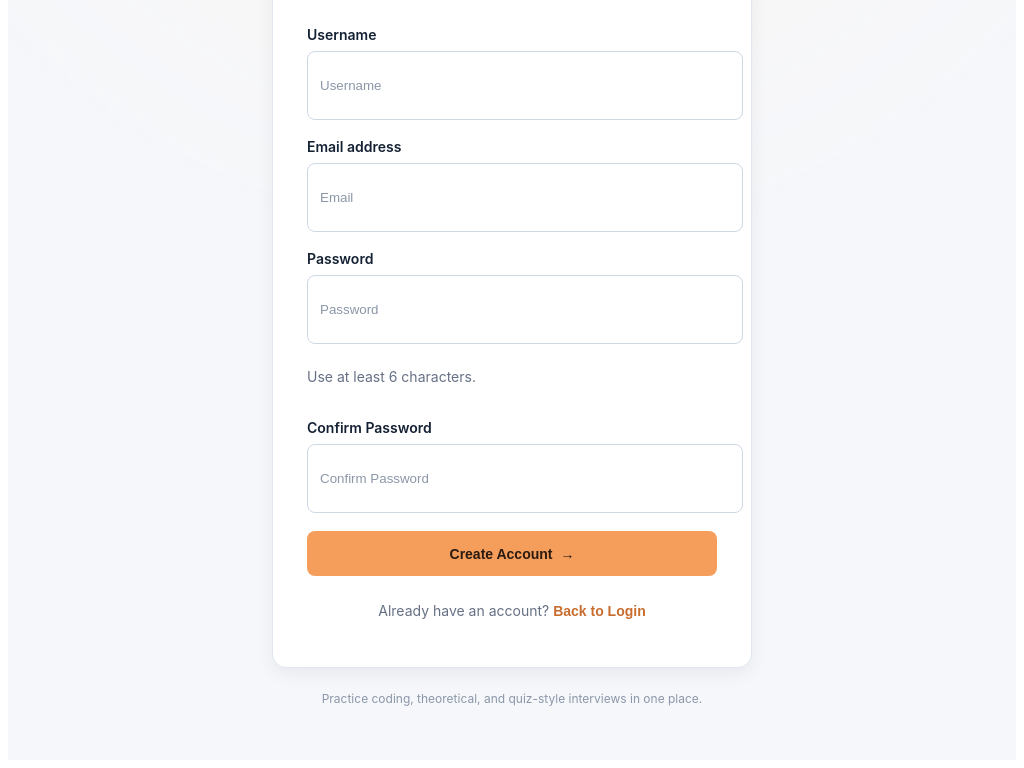
requires all four registration fields
(page scrolled)
Step 1. Click the button "Create Account →" → (512, 554), box [307,531,717,576]
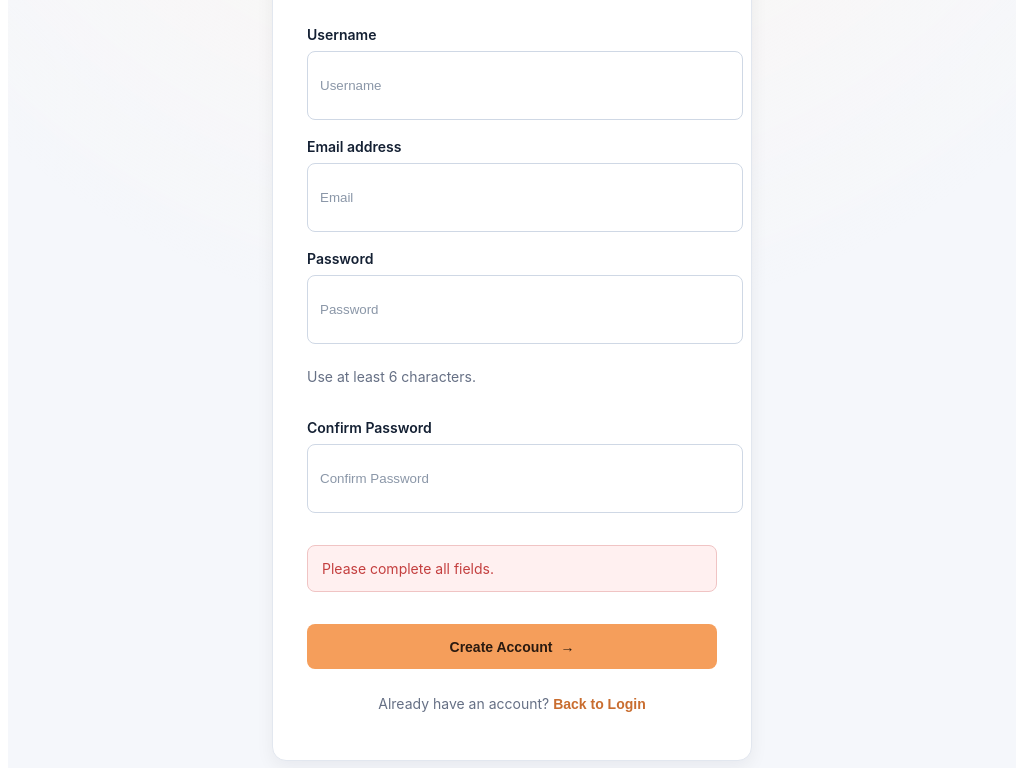
expect the message reads "Please complete all fields.": met, box [322,560,494,577]
